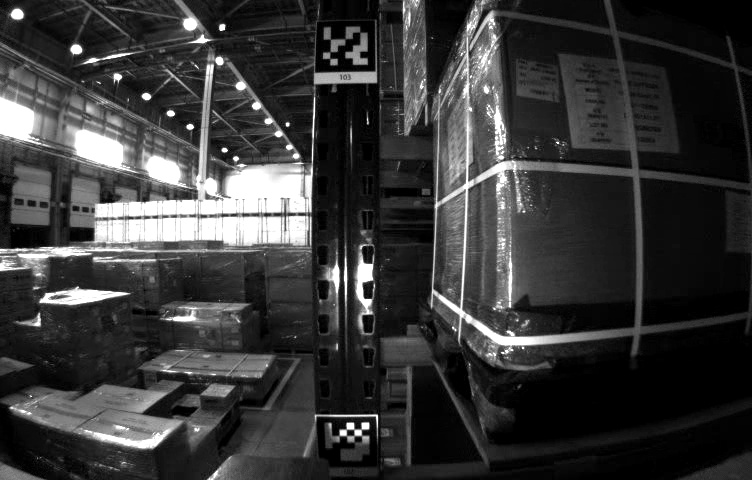True Barcode: (511, 57, 561, 107)
